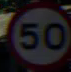Speed limit: (5, 4, 68, 66)
